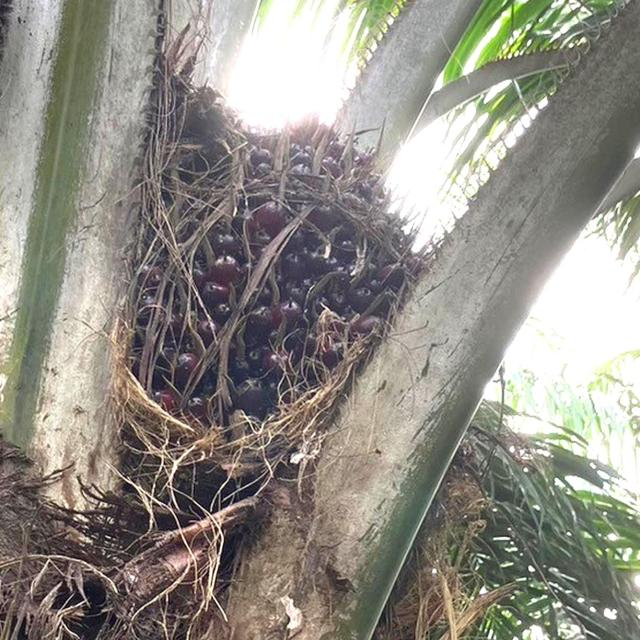ripe: (133, 118, 424, 463)
